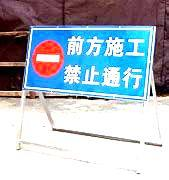sign: (29, 29, 150, 95)
